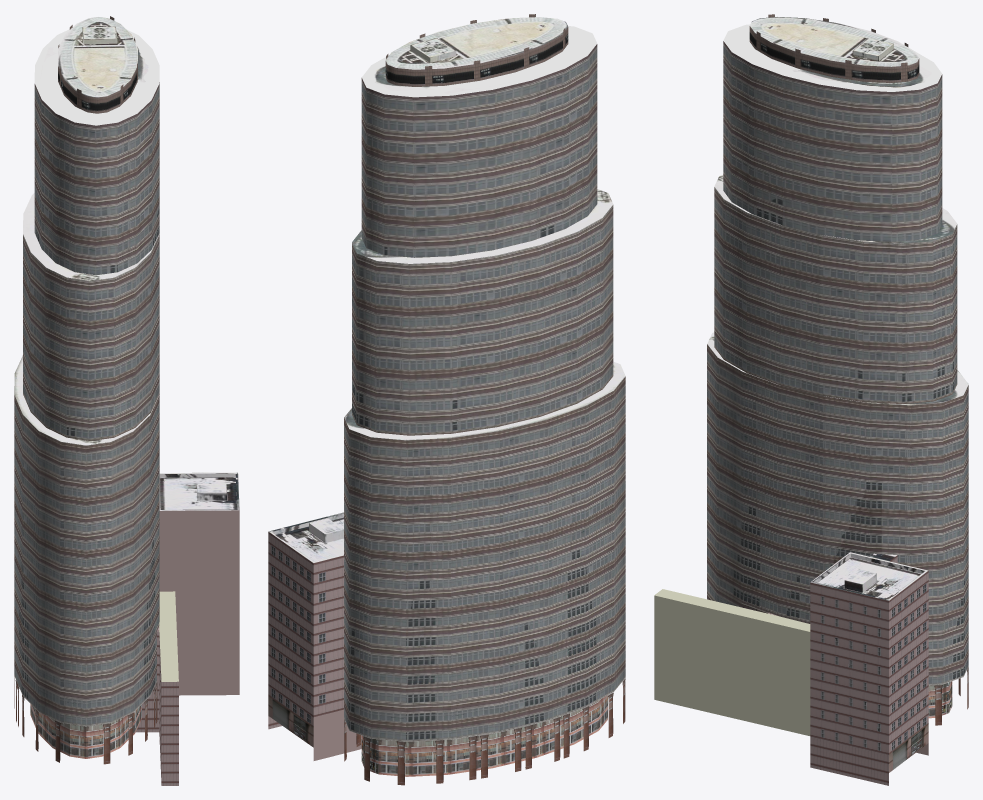
File: 53rd-at-Third.fbx
3 renders of one model, left to right at view 1: azimuth 30°, elevation 25°; view 2: azimuth 150°, elevation 25°; view 3: azimuth 270°, elevation 25°, orthographic. The views are drawn at different scales.
Parts seen in each view (by area): view 1: Model, Group3; view 2: Model, Group3, Group2; view 3: Model, Group3, Group2.
Boxes of the visible parts, box(x1,y1,x2,y2) form: Model: box(14, 16, 159, 758); Group3: box(136, 472, 239, 785); Model: box(344, 14, 625, 776); Group3: box(268, 512, 361, 760); Group2: box(268, 694, 313, 747); Model: box(707, 14, 968, 718); Group3: box(654, 552, 928, 785); Group2: box(889, 723, 928, 772).
Size of what is drawn, in the model's own units: 2279 by 5558 by 2376.
